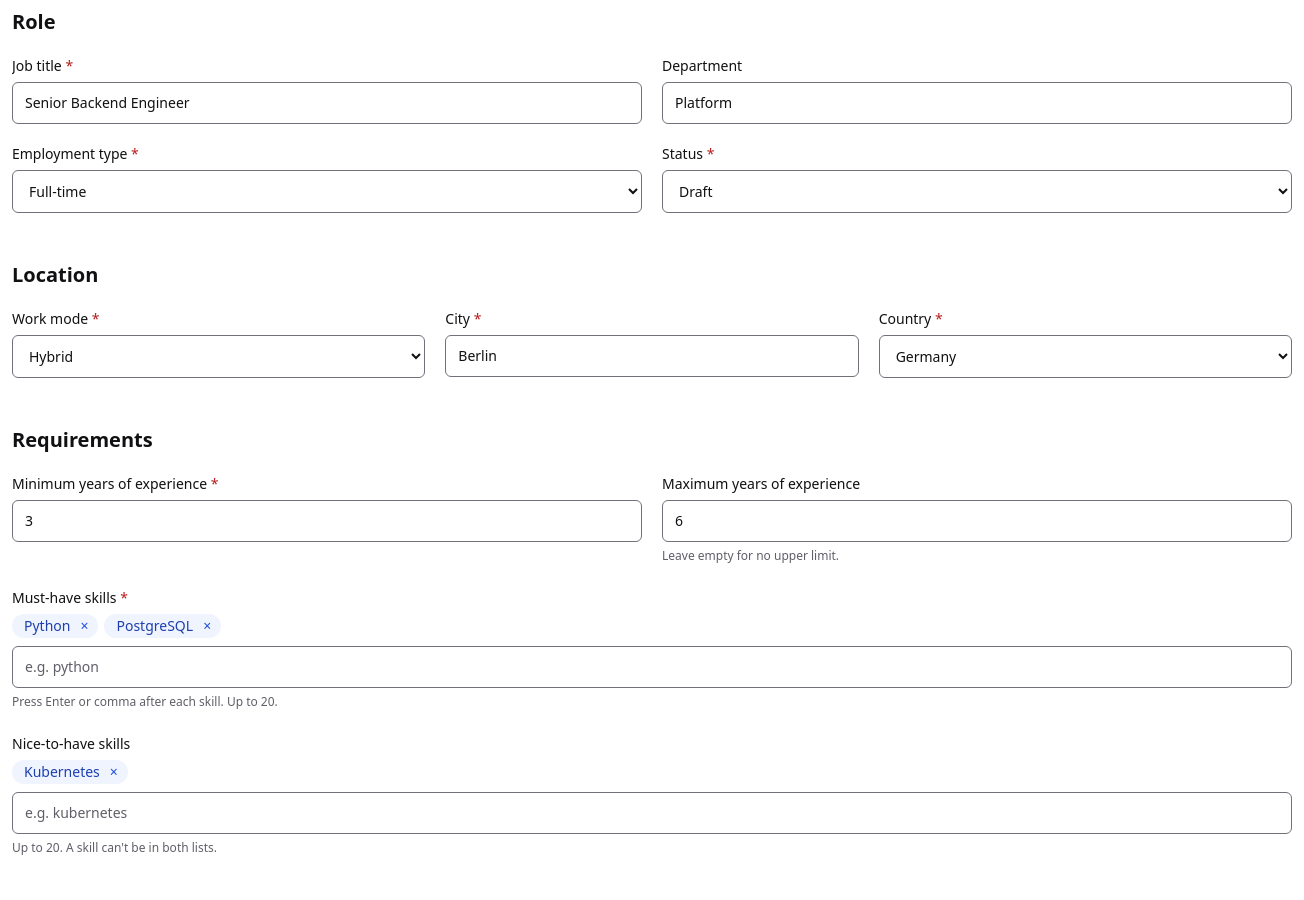
it: JobForm › marks the location optional for a remote job
This screenshot has width=1304, height=900.
Select "Remote" in the dropdown labelled "Work mode *". click: (219,356)
box: [12,335,425,378]
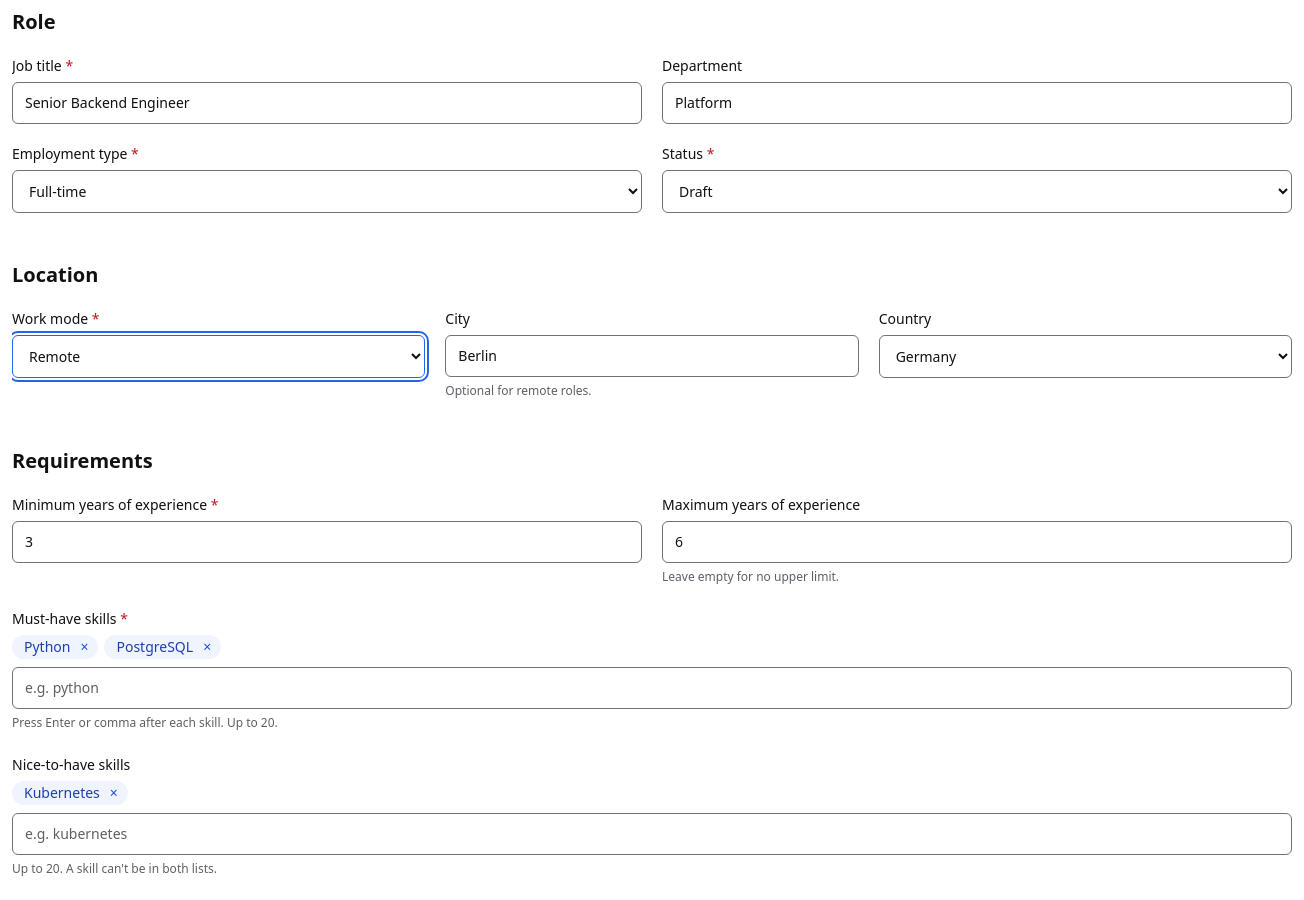
Expected: the text "Optional for remote roles." is shown, [445,382,592,399]
